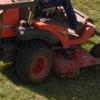Tractor: (7, 8, 99, 79)
